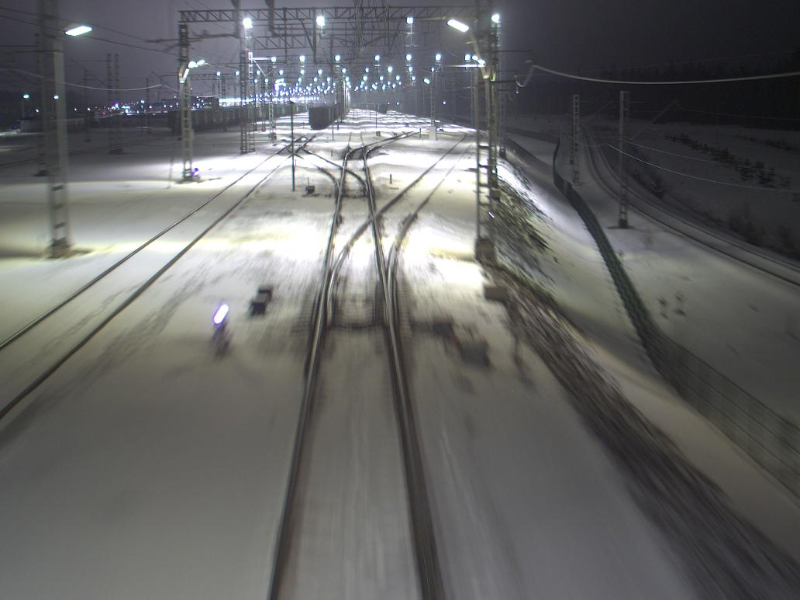left: (319, 211, 399, 330)
right: (337, 166, 372, 198)
